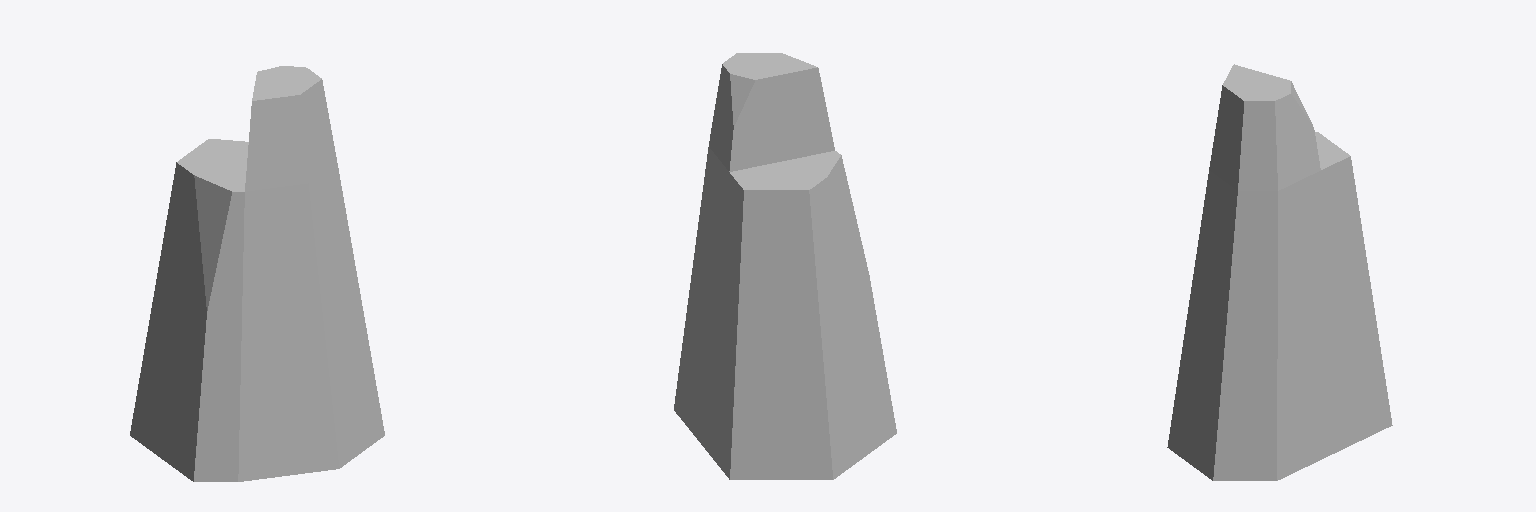
File: stone_tall9.obj
3 renders of one model, left to right at view 1: azimuth 30°, elevation 25°; view 2: azimuth 150°, elevation 25°; view 3: azimuth 270°, elevation 25°, orthographic.
Visible parts, largest first — view 1: stone_tall9; view 2: stone_tall9; view 3: stone_tall9.
Part boxes in pixels (left/top/right/bottom): stone_tall9: left=130, top=66, right=384, bottom=481; stone_tall9: left=674, top=53, right=896, bottom=479; stone_tall9: left=1167, top=64, right=1392, bottom=480.
Bounding box in the file's own units: 4.56 × 8.12 × 4.64.